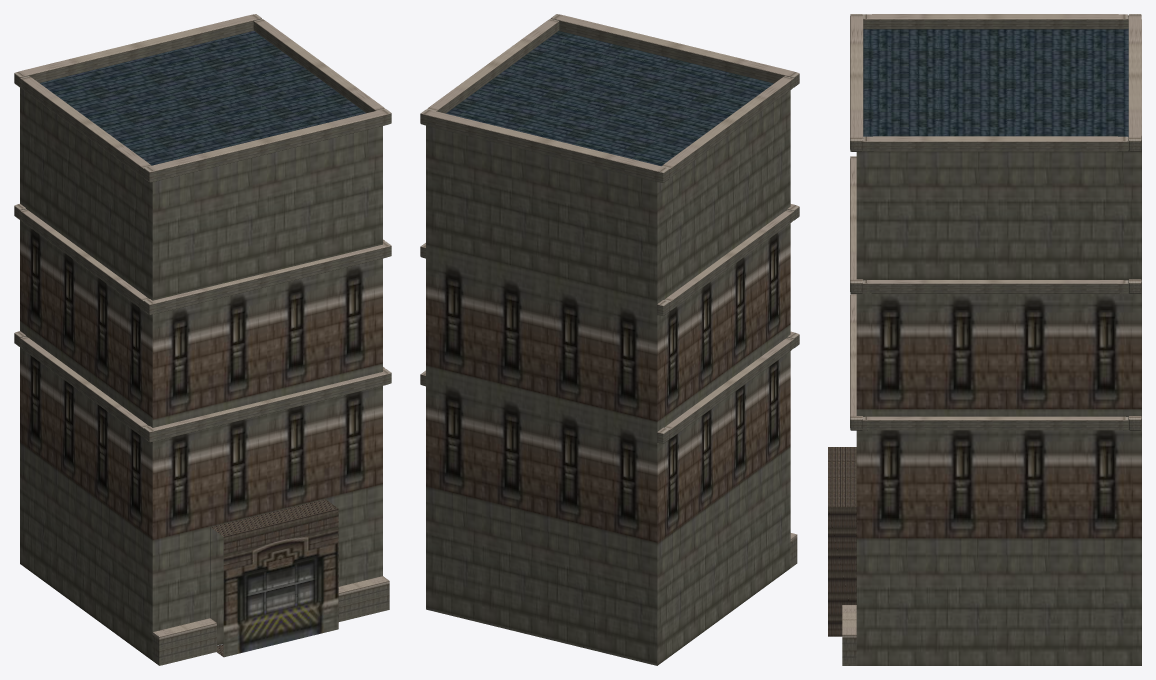
The model's file is building00.fbx.
3 renders of one model, left to right at view 1: azimuth 30°, elevation 25°; view 2: azimuth 150°, elevation 25°; view 3: azimuth 270°, elevation 25°, orthographic. The views are drawn at different scales.
Parts seen in each view (by area): view 1: pillar.025; view 2: pillar.025; view 3: pillar.025.
Part boxes in pixels (x1,y1,x2,y2): pillar.025: (14,14,391,665); pillar.025: (420,14,799,665); pillar.025: (828,14,1141,665).
Bounding box in the file's own units: 2113 × 4097 × 2200.
Materials: 16 (16 with a texture image).
